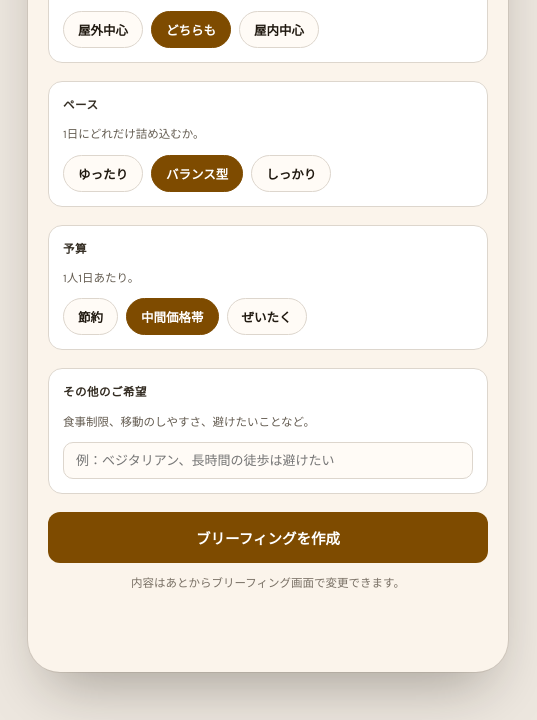
Test: answered — 応答由来のルートと出典 › 表示上限で伏せた停留地があるとき、DataGapCard とは別の注記を出す
(page scrolled)
Click the button "ブリーフィングを作成": click(268, 538) [48,512,488,563]
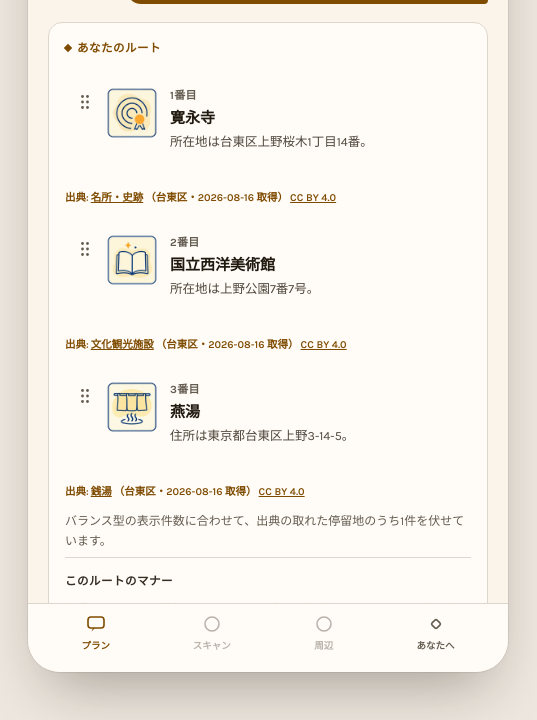
Now the text "寛永寺" is shown, box [170,108,215,127]
